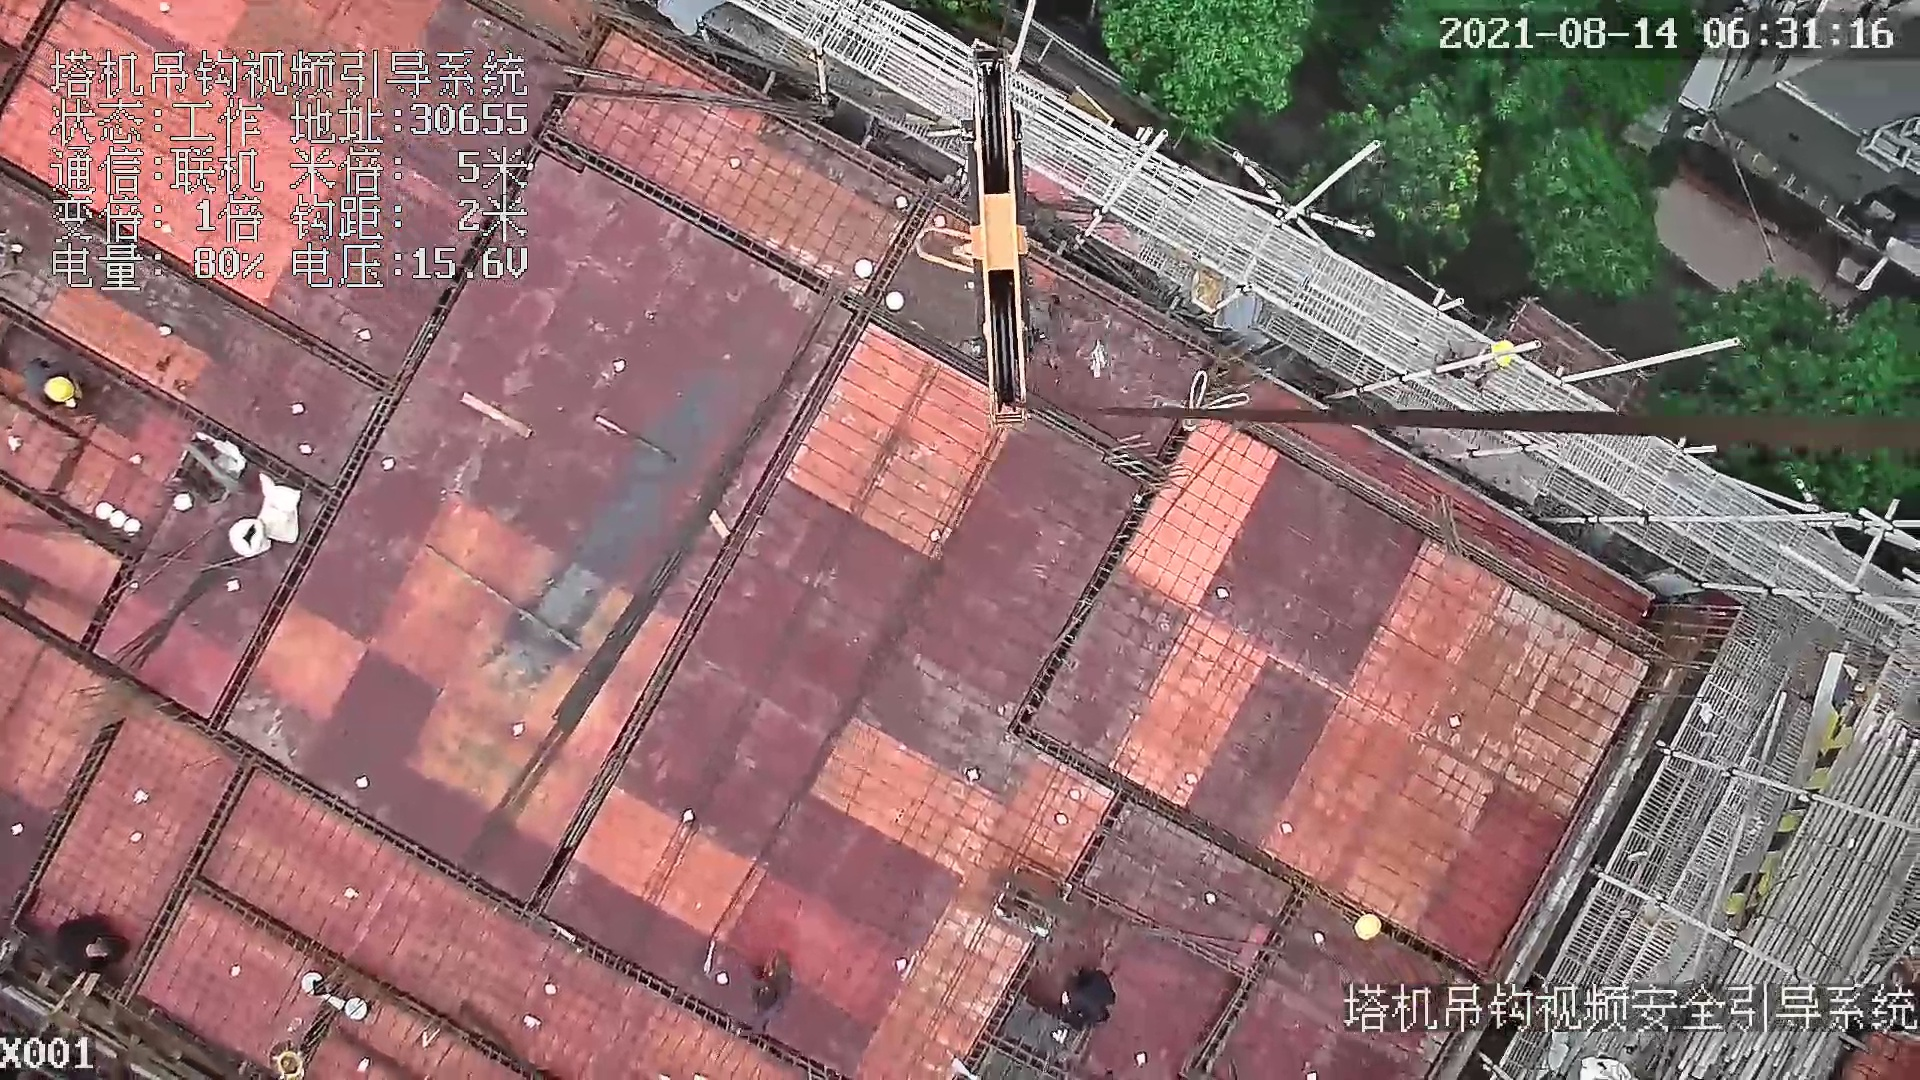helmet: (43, 374, 78, 405), (1358, 913, 1385, 947), (1489, 339, 1513, 369)
hook: (920, 44, 1032, 427)
person: (17, 354, 103, 418), (1057, 963, 1121, 1034)
scaffold: (1714, 677, 1920, 1050)
